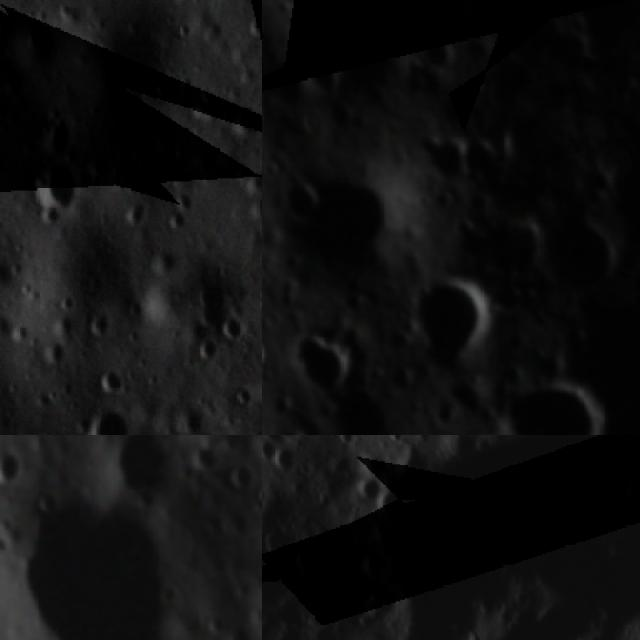crater: (17, 504, 168, 640), (75, 0, 191, 126), (277, 172, 403, 274), (403, 274, 498, 370), (534, 207, 626, 296), (491, 373, 608, 435), (22, 148, 94, 224), (290, 329, 354, 401), (182, 260, 242, 336), (415, 126, 473, 194), (7, 15, 65, 74), (294, 46, 352, 104), (457, 126, 506, 186), (262, 57, 307, 120), (70, 395, 139, 435), (423, 0, 477, 41), (0, 438, 39, 490), (414, 32, 458, 74), (223, 459, 254, 490), (270, 0, 310, 18), (262, 336, 270, 378)
